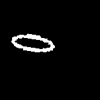chain: (12, 34, 54, 51)
